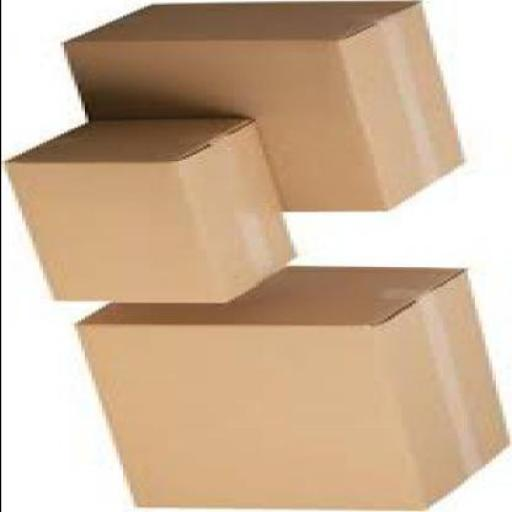cardboard: (80, 268, 511, 511), (67, 3, 470, 215), (4, 119, 299, 304)
